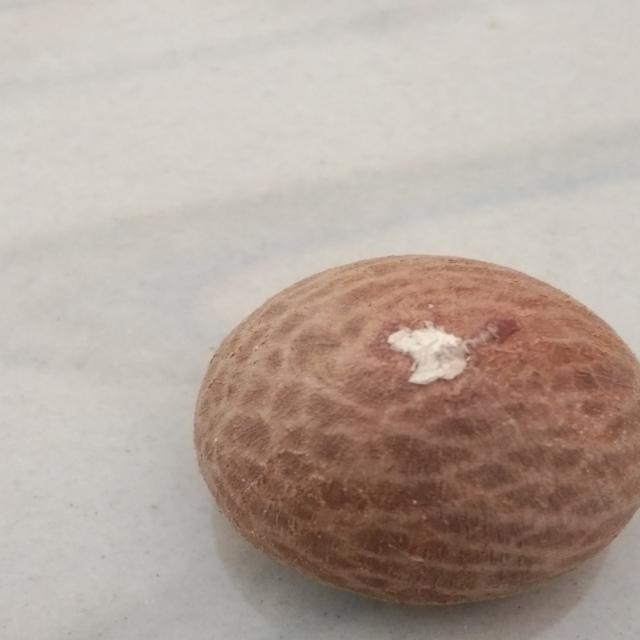good: (181, 250, 640, 611)
